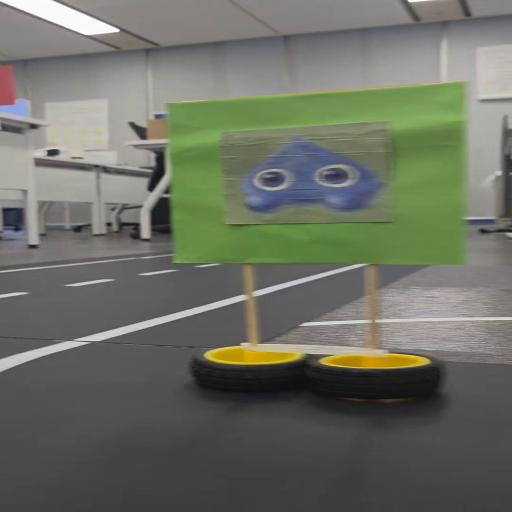Sign_B: (155, 78, 482, 400)
